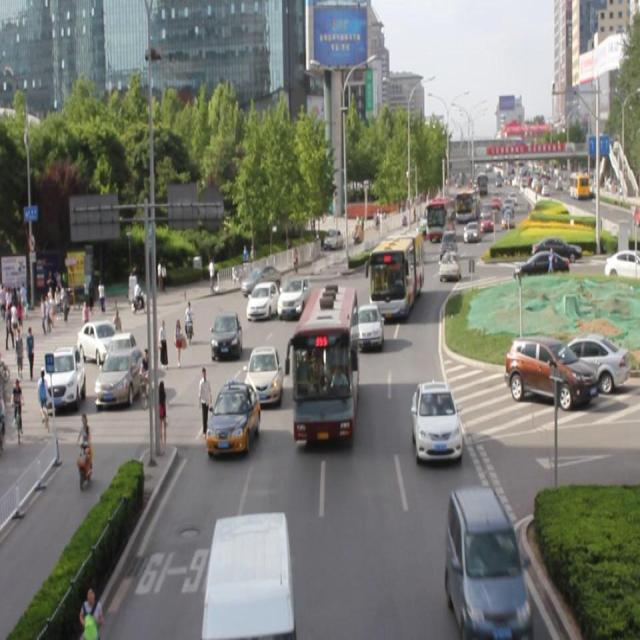car: (445, 484, 525, 640), (410, 380, 460, 462), (207, 382, 262, 454), (245, 345, 282, 406), (278, 274, 313, 318), (211, 314, 242, 362), (323, 301, 358, 343), (245, 281, 278, 319), (354, 304, 382, 345), (438, 250, 459, 281)
truck: (203, 513, 292, 640)
van: (292, 284, 358, 446), (369, 233, 424, 319)
